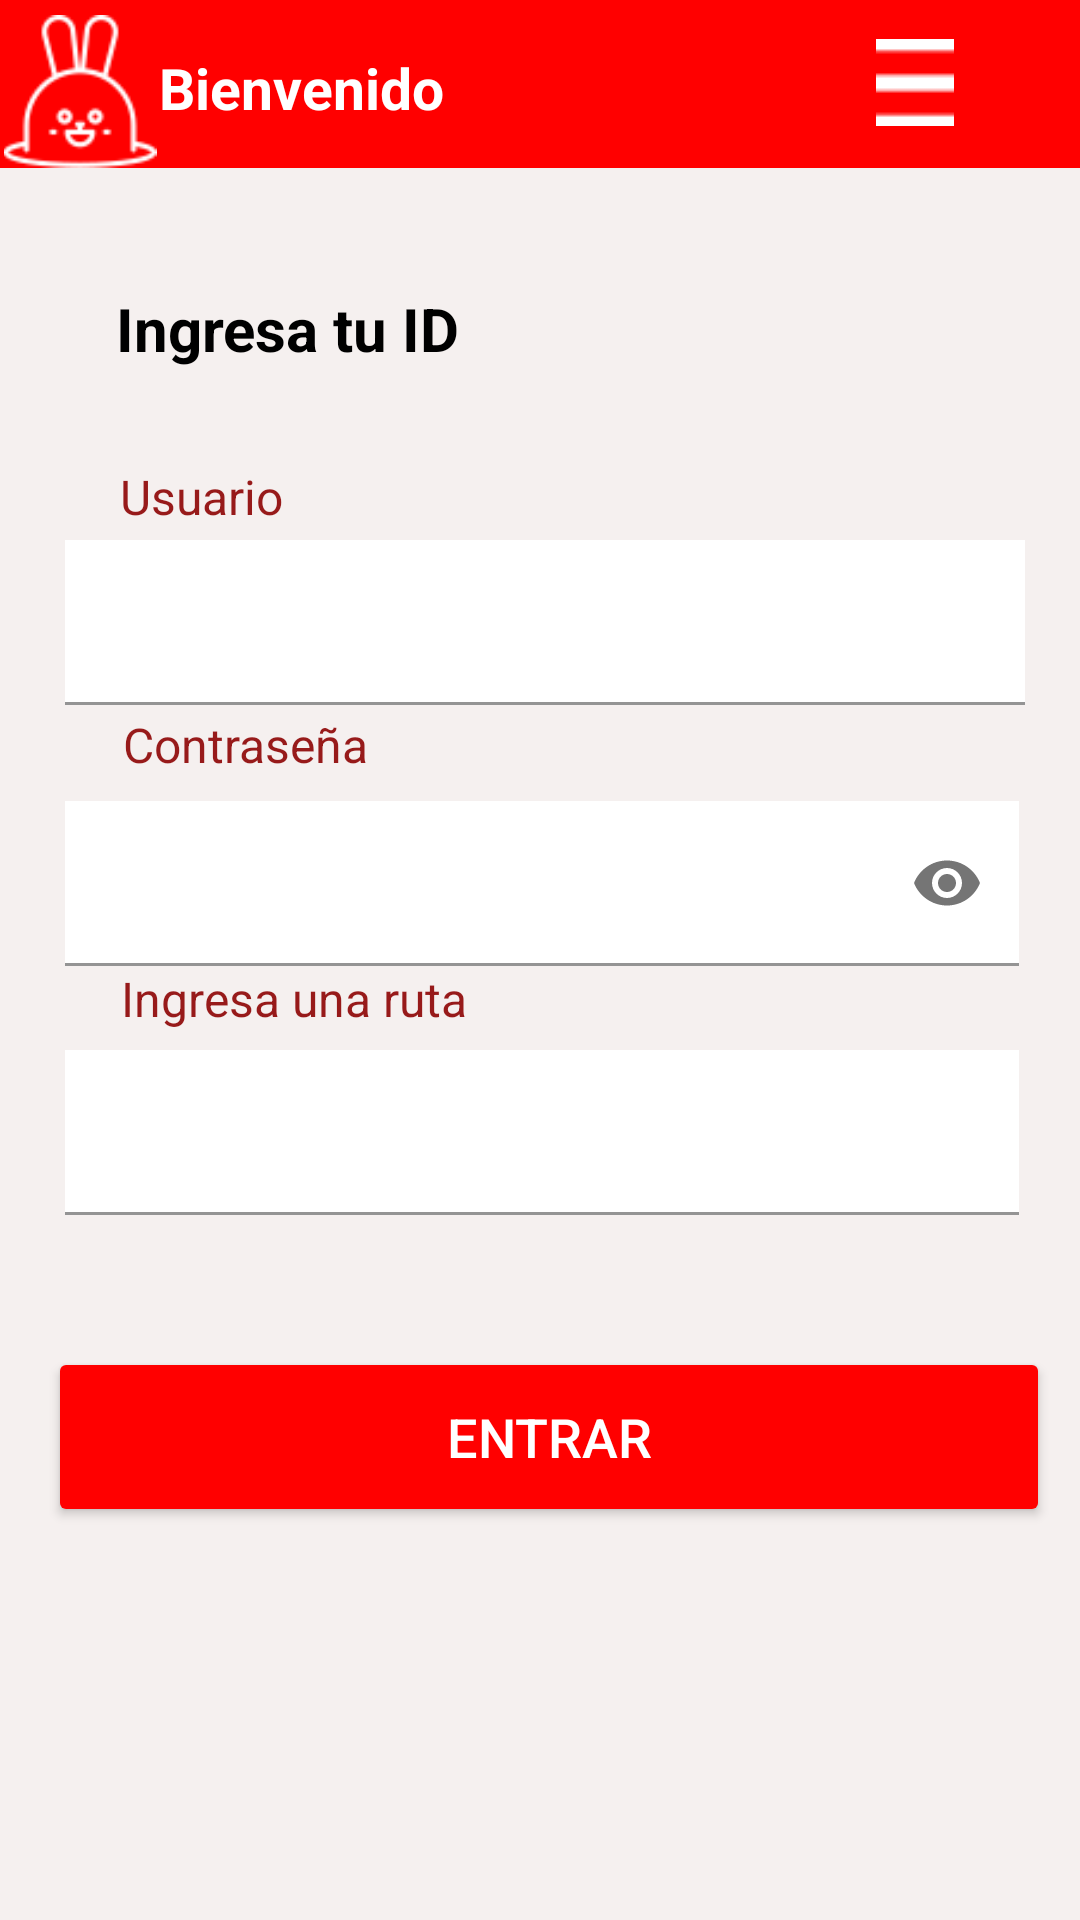

Named icons in this screenshot (1080w x 1920h) and their centers, (x,y):
conejito: (80,91)
